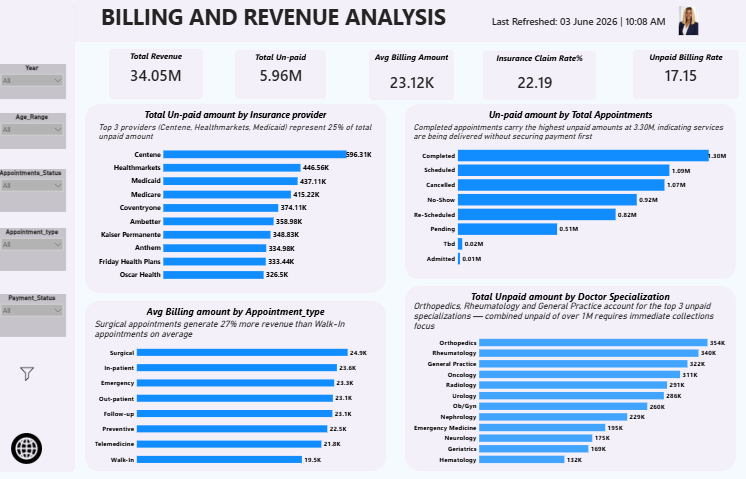

Layout of this report page (visuals, bound fields, positions):
{"tool":"powerbi","page":{"name":"Page 3","canvas":[2500,1600],"ordinal":2},"visuals":[{"type":"shape","box":[1356.7,350,1103.3,583.3],"z":0},{"type":"shape","box":[1356.7,956.7,1103.3,616.7],"z":1000},{"type":"shape","box":[290,350,1003.3,630],"z":2000},{"type":"shape","box":[290,1006.7,1003.3,566.7],"z":3000},{"type":"clusteredBarChart","title":"Top 3 providers (Centene, Healthmarkets, Medicaid) represent 25% of total unpaid amount","fields":{"Y":["Measures table.Total Unpaid amount"],"Category":["New healthcare.insurance_provider"]},"box":[330,410,920,546.7],"z":4000},{"type":"clusteredBarChart","title":"Surgical appointments generate 27% more revenue than Walk-In appointments on average","fields":{"Category":["New healthcare.Appointment_type"],"Y":["Measures table.Avg Billing amount"]},"box":[316.7,1066.7,936.7,506.7],"z":5000},{"type":"clusteredBarChart","title":"Orthopedics, Rheumatology and General Practice account for the top 3 unpaid specializations — combined unpaid of over 1M requires immediate collections focus","fields":{"Category":["New healthcare.DOCTOR_SPECIALIZATION"],"Y":["Measures table.Total Unpaid amount"]},"box":[1380,1006.7,1063.3,560],"z":6000},{"type":"shape","box":[0,0,256.7,1576.7],"z":7000},{"type":"shape","box":[256.7,0,2243.3,143.3],"z":8000},{"type":"clusteredBarChart","title":"Completed appointments carry the highest unpaid amounts at 3.30M, indicating services are being delivered without securing payment first","fields":{"Y":["Measures table.Total Unpaid amount"],"Category":["New healthcare.Appointment_Status"]},"box":[1380,410,1053.3,500],"z":9000},{"type":"slicer","title":"Year","fields":{"Values":["Date.Year"]},"box":[0,216.7,226.7,116.7],"z":10000},{"type":"slicer","title":"Age_Range","fields":{"Values":["New healthcare.Age_Range"]},"box":[0,380,226.7,120],"z":11000},{"type":"slicer","title":"Appointments_Status","fields":{"Values":["New healthcare.Appointment_Status"]},"box":[0,566.7,226.7,143.3],"z":12000},{"type":"slicer","title":"Appointment_type","fields":{"Values":["New healthcare.Appointment_type"]},"box":[0,763.3,226.7,143.3],"z":13000},{"type":"slicer","title":"Payment_Status","fields":{"Values":["New healthcare.Payment_Status"]},"box":[0,983.3,226.7,143.3],"z":14000},{"type":"image","box":[43.3,1206.7,106.7,86.7],"z":15000},{"type":"image","box":[36.7,1446.7,116.7,103.3],"z":16000},{"type":"cardVisual","fields":{"Data":["Measures table.Last Refreshed"]},"box":[1616.7,33.3,660,76.7],"z":17000},{"type":"image","box":[2253.3,23.3,96.7,96.7],"z":18000},{"type":"shape","box":[1236.7,170,283.3,166.7],"z":19000},{"type":"shape","box":[790,170,303.3,163.3],"z":20000},{"type":"shape","box":[370,166.7,313.3,166.7],"z":21000},{"type":"shape","box":[2116.7,170,353.3,163.3],"z":22000},{"type":"shape","box":[1616.7,173.3,376.7,163.3],"z":23000},{"type":"cardVisual","fields":{"Data":["Measures table.Total Revenue"]},"box":[410,193.3,233.3,116.7],"z":24000},{"type":"cardVisual","fields":{"Data":["Measures table.Total Unpaid amount"]},"box":[826.7,193.3,233.3,116.7],"z":25000},{"type":"cardVisual","fields":{"Data":["Measures table.Avg Billing amount"]},"box":[1263.3,216.7,233.3,116.7],"z":26000},{"type":"cardVisual","fields":{"Data":["Measures table.Insurance claim rate"]},"box":[1673.3,216.7,233.3,116.7],"z":27000},{"type":"cardVisual","fields":{"Data":["Measures table.Unpaid billing Rate"]},"box":[2160,193.3,233.3,116.7],"z":28000},{"type":"textbox","box":[290,3.3,1256.7,116.7],"z":29000}]}

Visuals, with their boxes in screenshot pixels (x1, y1, x2, y2), scaled from the page's 2500x1600 canvas onto the 746x479 screenshot:
shape: 405, 105, 734, 279
shape: 405, 286, 734, 471
shape: 87, 105, 386, 293
shape: 87, 301, 386, 471
"Top 3 providers (Centene, Healthmarkets, Medicaid) represent 25% of total unpaid amount" clusteredBarChart: 98, 123, 373, 286
"Surgical appointments generate 27% more revenue than Walk-In appointments on average" clusteredBarChart: 95, 319, 374, 471
"Orthopedics, Rheumatology and General Practice account for the top 3 unpaid specializations — combined unpaid of over 1M requires immediate collections focus" clusteredBarChart: 412, 301, 729, 469
shape: 0, 0, 77, 472
shape: 77, 0, 745, 43
"Completed appointments carry the highest unpaid amounts at 3.30M, indicating services are being delivered without securing payment first" clusteredBarChart: 412, 123, 726, 272
"Year" slicer: 0, 65, 68, 100
"Age_Range" slicer: 0, 114, 68, 150
"Appointments_Status" slicer: 0, 170, 68, 213
"Appointment_type" slicer: 0, 229, 68, 271
"Payment_Status" slicer: 0, 294, 68, 337
image: 13, 361, 45, 387
image: 11, 433, 46, 464
cardVisual - Measures table.Last Refreshed: 482, 10, 679, 33
image: 672, 7, 701, 36
shape: 369, 51, 454, 101
shape: 236, 51, 326, 100
shape: 110, 50, 204, 100
shape: 632, 51, 737, 100
shape: 482, 52, 595, 101
cardVisual - Measures table.Total Revenue: 122, 58, 192, 93
cardVisual - Measures table.Total Unpaid amount: 247, 58, 316, 93
cardVisual - Measures table.Avg Billing amount: 377, 65, 447, 100
cardVisual - Measures table.Insurance claim rate: 499, 65, 569, 100
cardVisual - Measures table.Unpaid billing Rate: 645, 58, 714, 93
textbox: 87, 1, 462, 36
